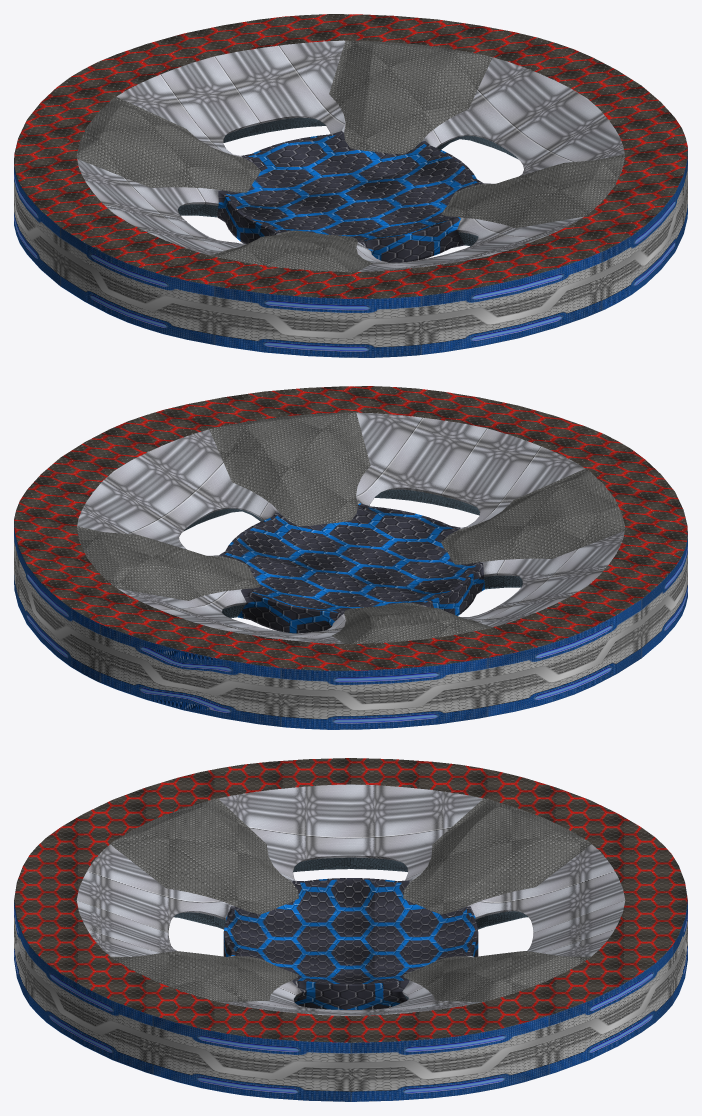
The model's file is Pizza_Arena_Test_Texture.fbx.
The picture shows the model from 3 angles, top to bottom: view 1: azimuth 30°, elevation 25°; view 2: azimuth 150°, elevation 25°; view 3: azimuth 270°, elevation 25°; orthographic projection.
Visible parts, largest first — view 1: Main_Base_Low1; view 2: Main_Base_Low1; view 3: Main_Base_Low1.
Part boxes in pixels (<box>): Main_Base_Low1: <box>14,14,687,357</box>; Main_Base_Low1: <box>14,386,687,729</box>; Main_Base_Low1: <box>14,758,687,1101</box>.
Bounding box in the file's own units: 15838 × 1714 × 15838.
